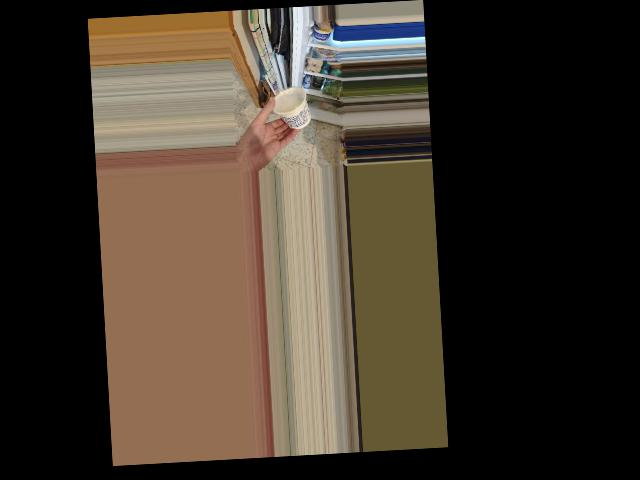cotage: (273, 86, 308, 132)
